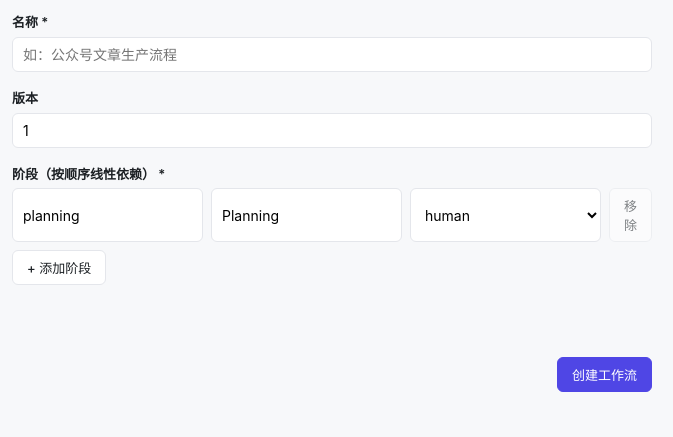
Test: WorkflowForm 校验 › 名称为空时阻止提交并提示
Click the button "创建工作流" at (604, 375), box [557,357,652,392]
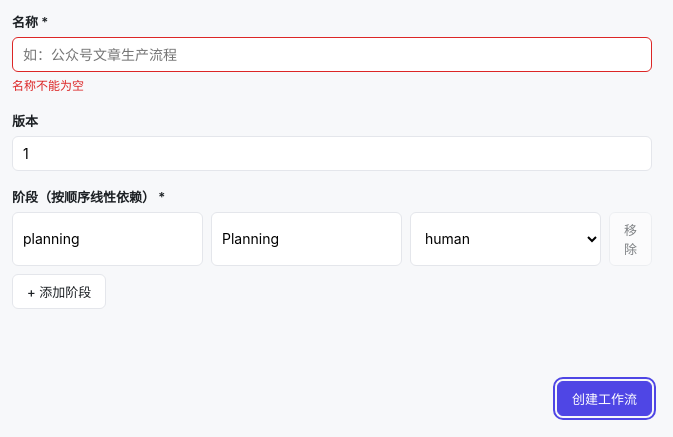
expect the text "名称不能为空" is shown: met, box [12,78,84,93]
